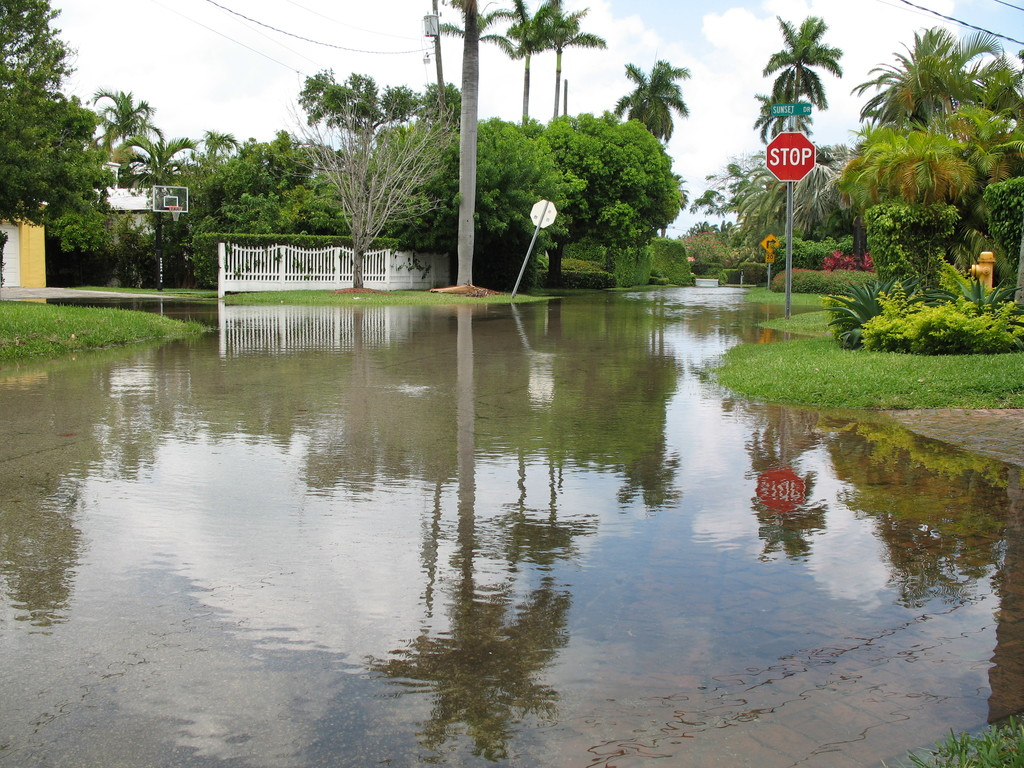Tree: (0, 0, 1024, 303)
